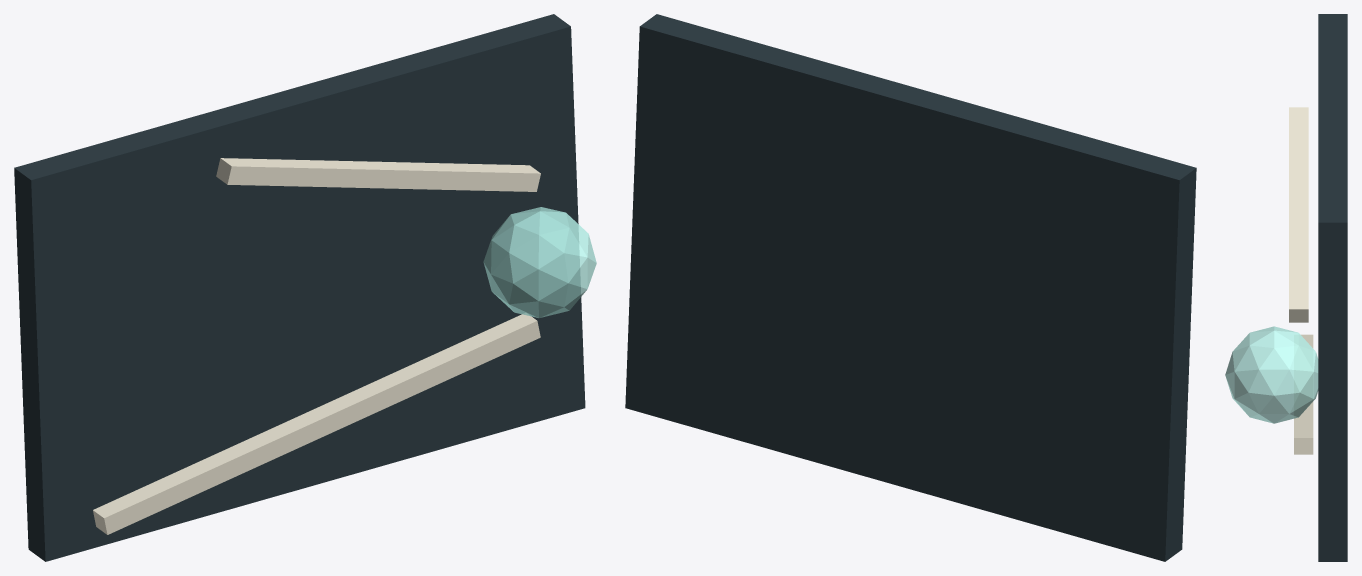
Rendered from 02_world_prop_polish.glb.
3 views of the same model, side by side, from view 1: azimuth 30°, elevation 25°; view 2: azimuth 150°, elevation 25°; view 3: azimuth 270°, elevation 25° (orthographic). The views are drawn at different scales.
Visible parts, largest first — view 1: object_overlay_plate, edge_wear_a, glow_socket, edge_wear_b; view 2: object_overlay_plate; view 3: object_overlay_plate, glow_socket, edge_wear_b, edge_wear_a.
Part boxes in pixels (<box>): object_overlay_plate: <box>14,14,585,561</box>; edge_wear_a: <box>93,313,540,534</box>; glow_socket: <box>483,207,596,317</box>; edge_wear_b: <box>216,158,540,191</box>; object_overlay_plate: <box>625,14,1196,561</box>; object_overlay_plate: <box>1318,14,1347,561</box>; glow_socket: <box>1225,326,1318,423</box>; edge_wear_b: <box>1289,107,1308,322</box>; edge_wear_a: <box>1294,334,1313,454</box>.
Size of the model in its own units: 1.13 by 0.7924 by 0.25.
